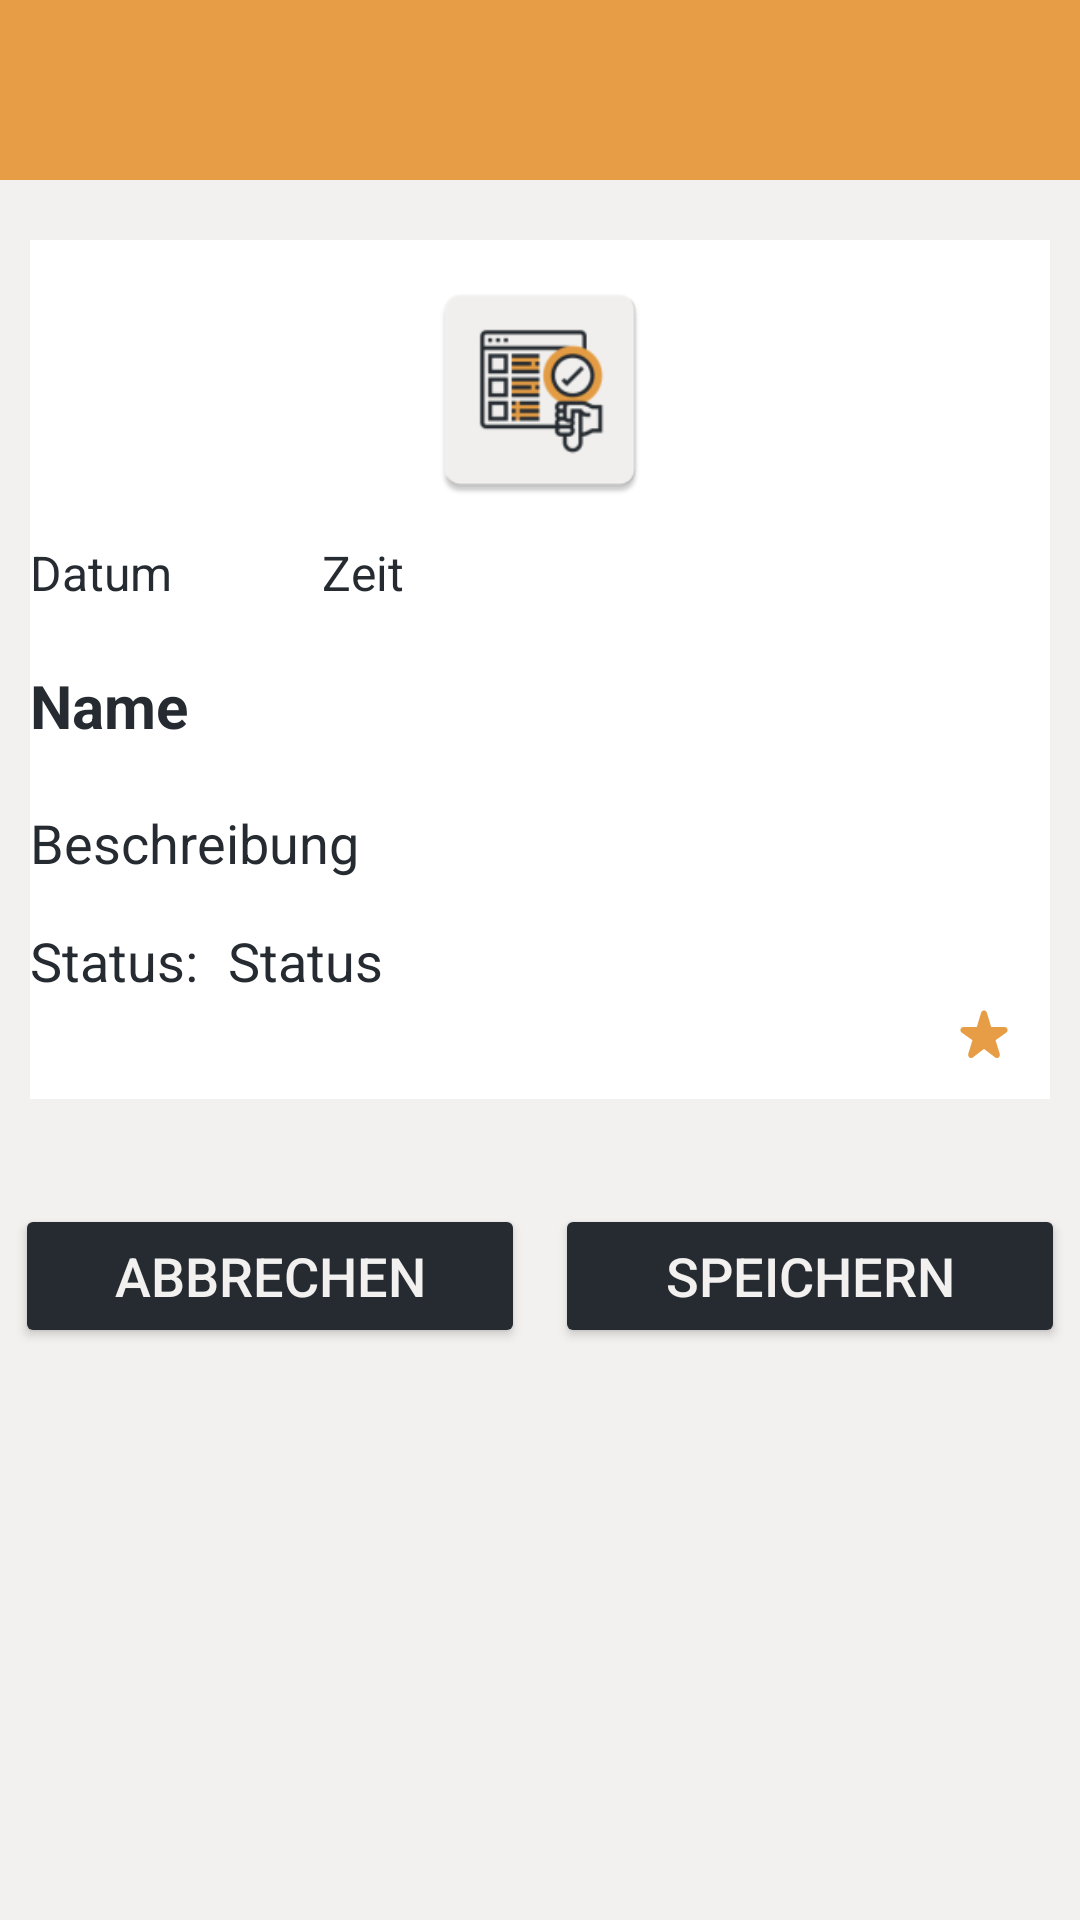

Icon bounding boxes for this 1080px×1920px phone screenshot, format (x1, y1, x2, y2):
favourite: (960, 1010, 1008, 1058)
